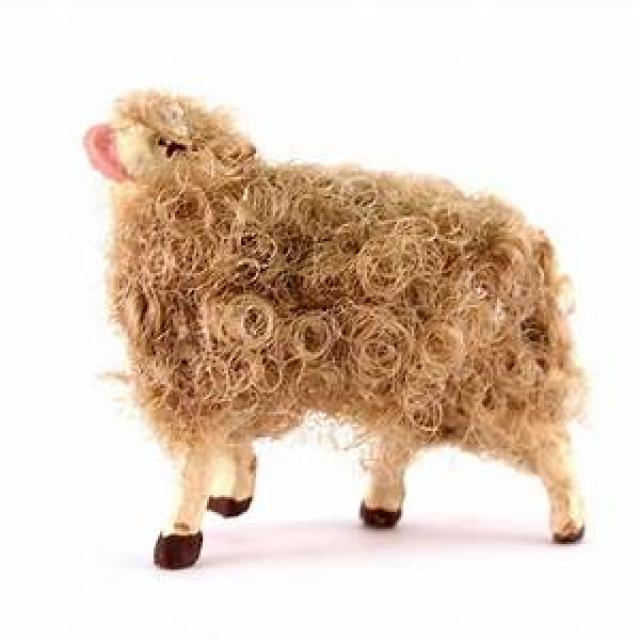sheep: (81, 85, 589, 570)
